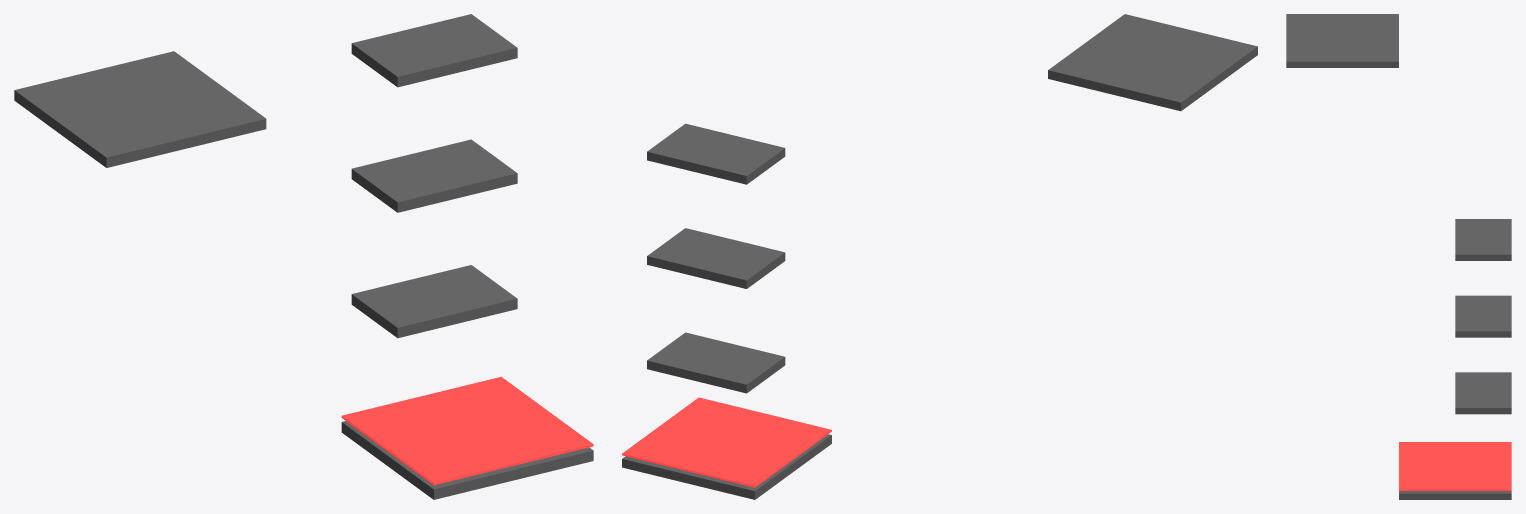
File: DebrisPile.fbx
The picture shows the model from 3 angles, left to right: view 1: azimuth 30°, elevation 25°; view 2: azimuth 150°, elevation 25°; view 3: azimuth 270°, elevation 25°; orthographic projection. The views are drawn at different scales.
Visible parts, largest first — view 1: F5_Ceil_Debris, F1_Debris_Glow, F2_Ceil_Debris, F4_Ceil_Debris, F3_Ceil_Debris, F1_Debris_Debris; view 2: F5_Ceil_Debris, F1_Debris_Glow, F4_Ceil_Debris, F2_Ceil_Debris, F3_Ceil_Debris, F1_Debris_Debris; view 3: F5_Ceil_Debris, F1_Debris_Glow, F2_Ceil_Debris, F3_Ceil_Debris, F4_Ceil_Debris, F1_Debris_Debris.
Boxes of the visible parts, x1=… form: F5_Ceil_Debris: x1=14, y1=51, x2=266, y2=167; F1_Debris_Glow: x1=341, y1=376, x2=593, y2=485; F2_Ceil_Debris: x1=351, y1=265, x2=517, y2=338; F4_Ceil_Debris: x1=351, y1=14, x2=517, y2=87; F3_Ceil_Debris: x1=351, y1=139, x2=517, y2=212; F1_Debris_Debris: x1=341, y1=421, x2=593, y2=499; F5_Ceil_Debris: x1=1048, y1=14, x2=1257, y2=111; F1_Debris_Glow: x1=622, y1=397, x2=831, y2=487; F4_Ceil_Debris: x1=647, y1=123, x2=785, y2=184; F2_Ceil_Debris: x1=647, y1=332, x2=785, y2=393; F3_Ceil_Debris: x1=647, y1=228, x2=785, y2=288; F1_Debris_Debris: x1=622, y1=434, x2=831, y2=499; F5_Ceil_Debris: x1=1286, y1=14, x2=1398, y2=67; F1_Debris_Glow: x1=1399, y1=442, x2=1511, y2=490; F2_Ceil_Debris: x1=1455, y1=372, x2=1511, y2=414; F3_Ceil_Debris: x1=1455, y1=295, x2=1511, y2=337; F4_Ceil_Debris: x1=1455, y1=219, x2=1511, y2=260; F1_Debris_Debris: x1=1399, y1=491, x2=1511, y2=499.
Bounding box in the file's own units: 14.5 × 12.25 × 8.
